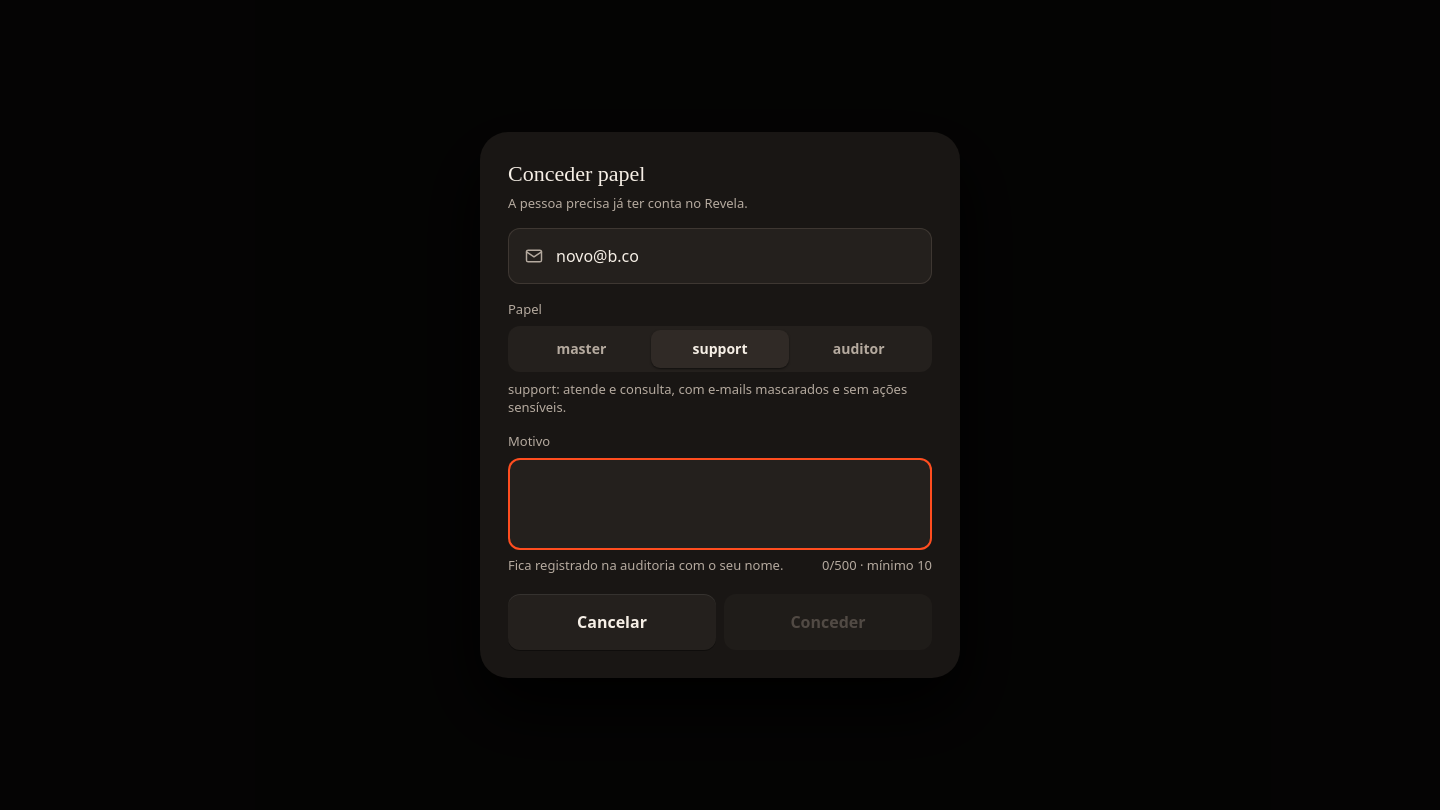
Pessoas: folhas da equipe › conceder: envia e-mail, papel escolhido e motivo; erro do servidor aparece
Click the radio button labelled "auditor".
click(859, 348)  # box x1=833 y1=339 x2=885 y2=358
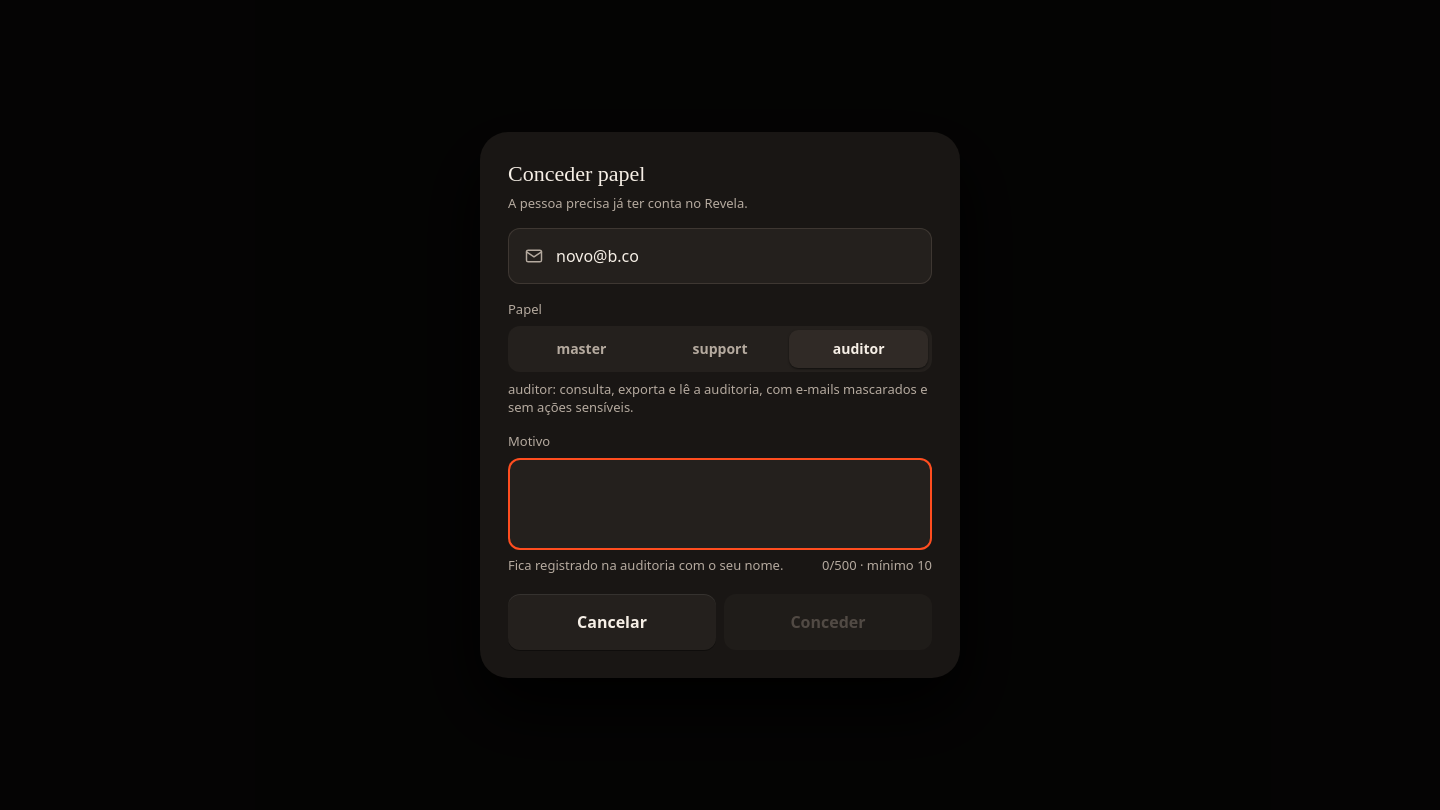
Type "motivo válido aqui" into the text box named "Motivo".
click(720, 511); type("motivo válido aqui")  # box x1=524 y1=472 x2=916 y2=550
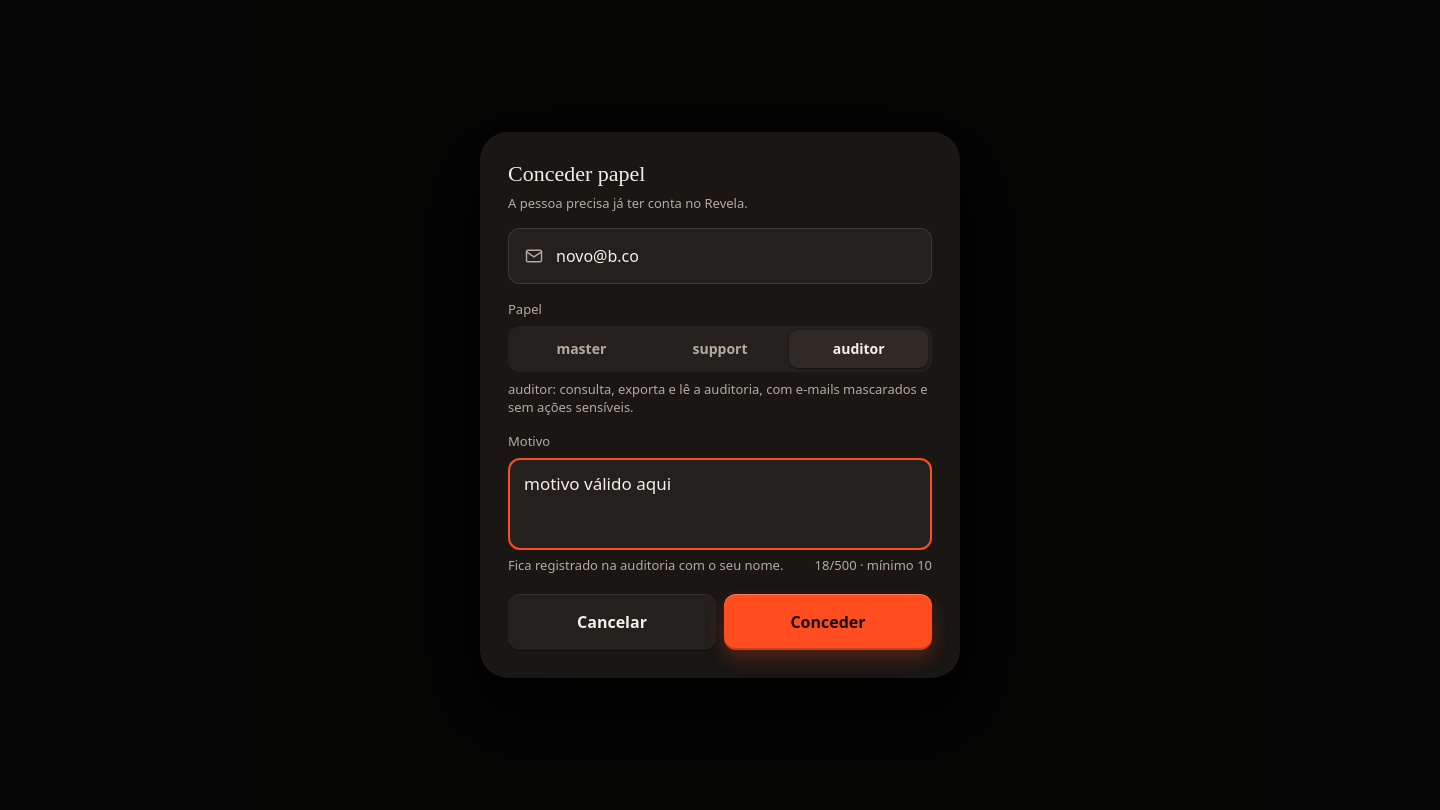
Click the button "Conceder".
click(828, 622)  # box x1=724 y1=594 x2=932 y2=650
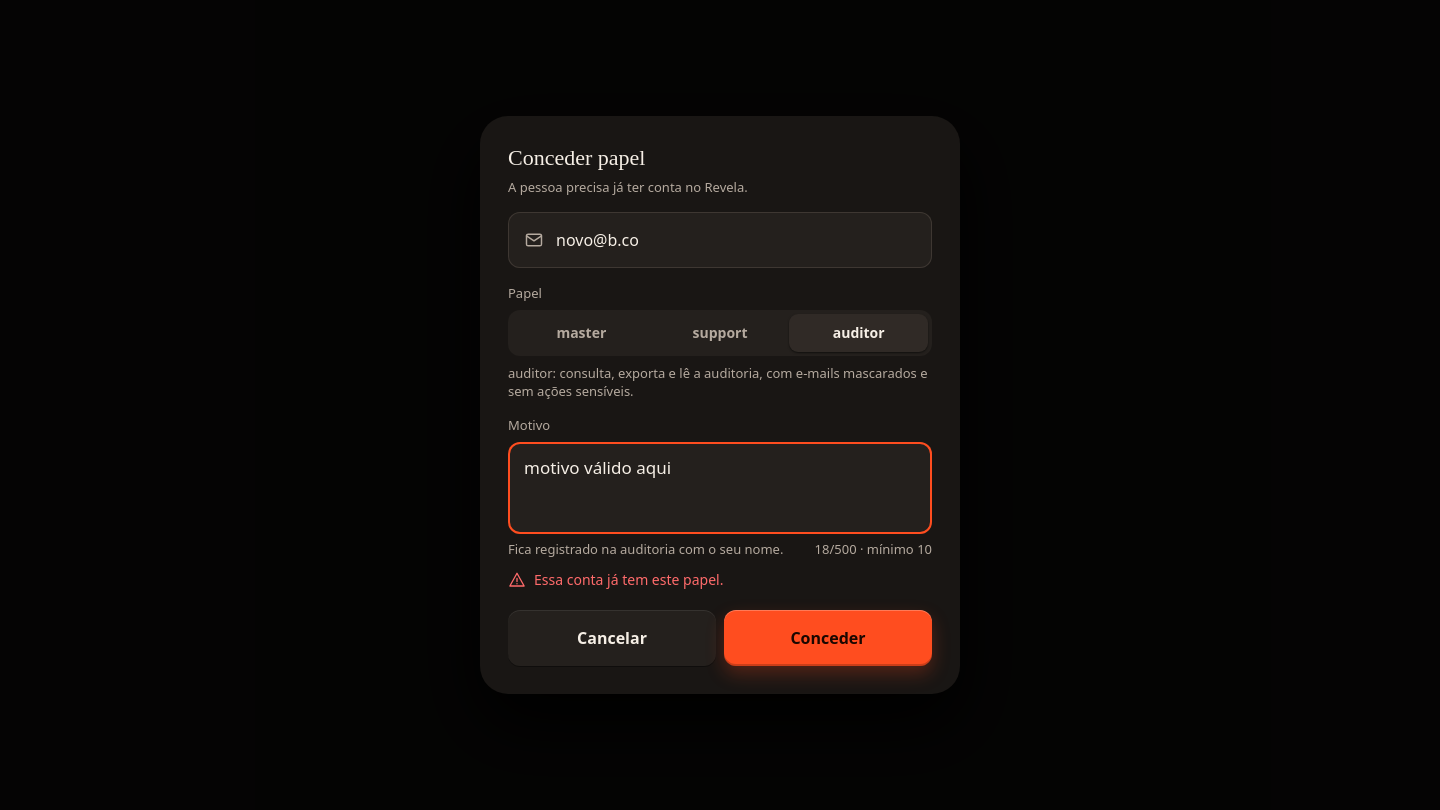
Now the text "Essa conta já tem este papel." is shown, box x1=508 y1=570 x2=723 y2=589
